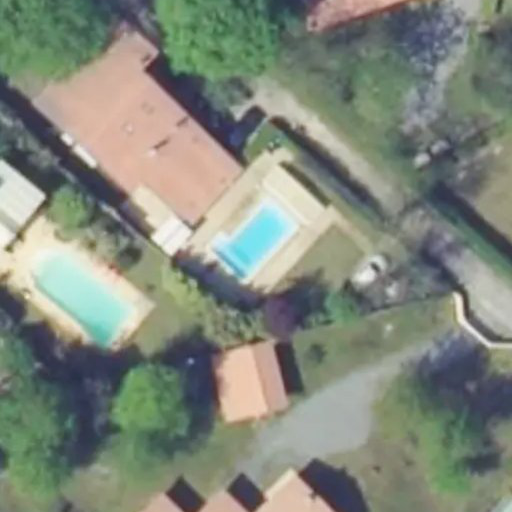pool: (29, 250, 134, 354), (214, 195, 295, 280)
